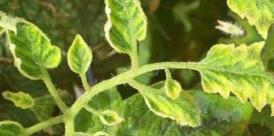Tomato leaf yellow virus: (183, 24, 274, 119), (0, 10, 75, 92), (128, 72, 212, 136), (86, 0, 162, 61), (62, 31, 101, 81)
